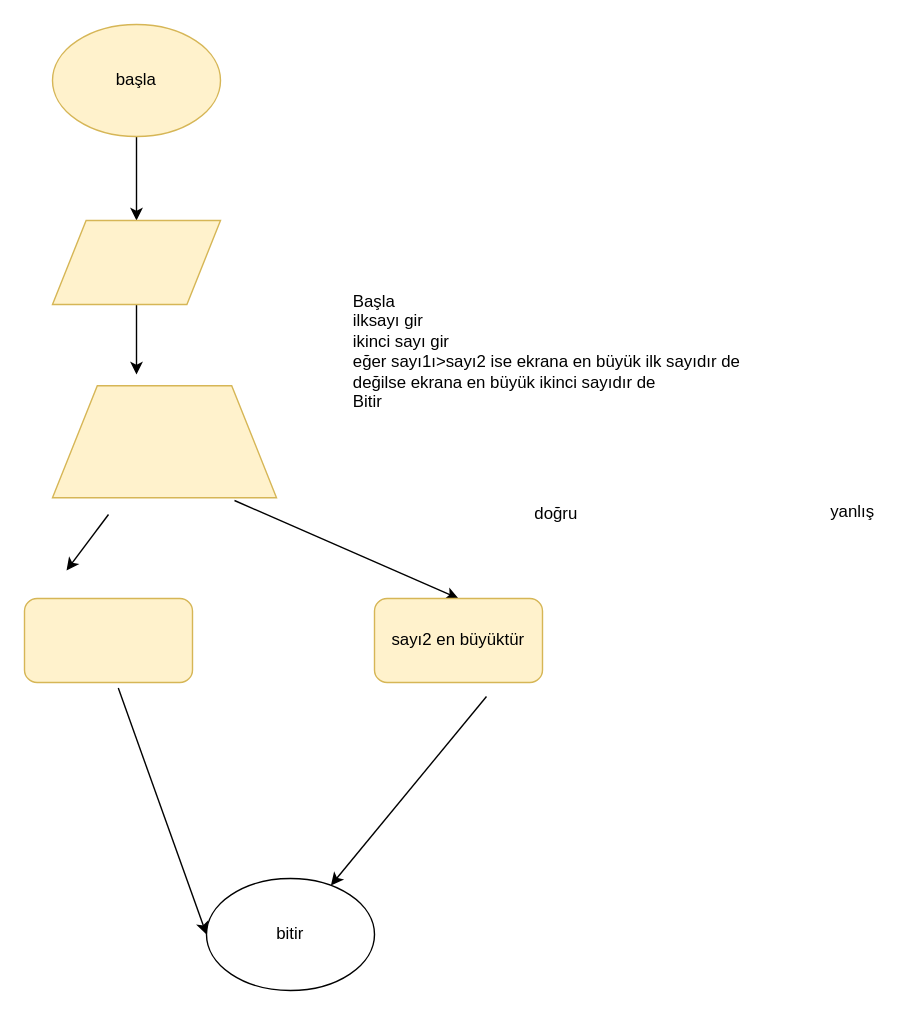
This 923x1015 diagram has some shape labels left out. The shapes that lost their labels are listed below. From the top down, each one's centre as x and y in pixels, then its label:
the point at 135,261: sayı1 sayı2
the point at 107,639: sayı1 en büyüktür
